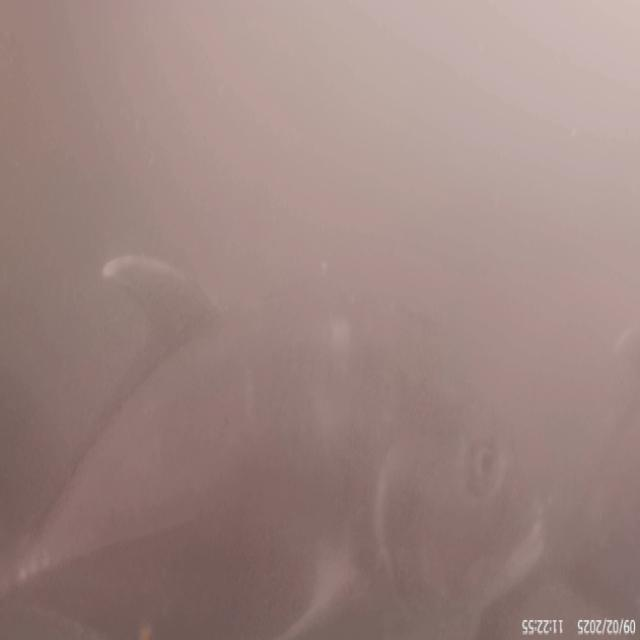ikan: (6, 239, 548, 636)
